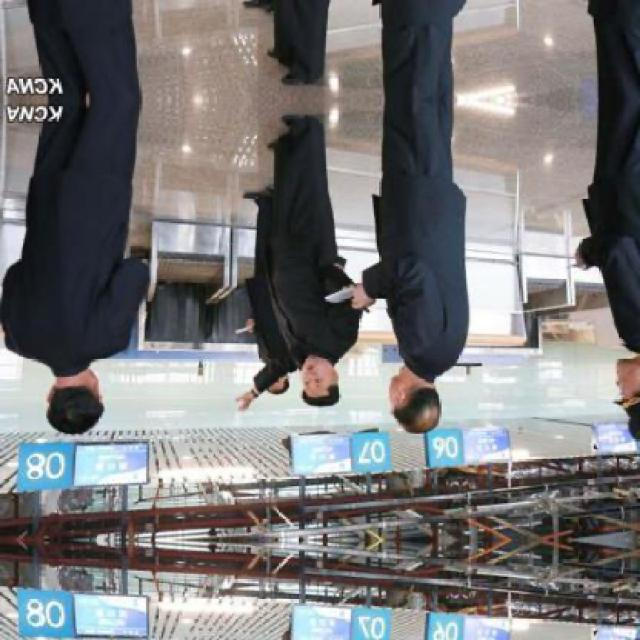sin casco: (369, 356, 486, 447), (36, 354, 122, 440), (277, 366, 355, 424)
